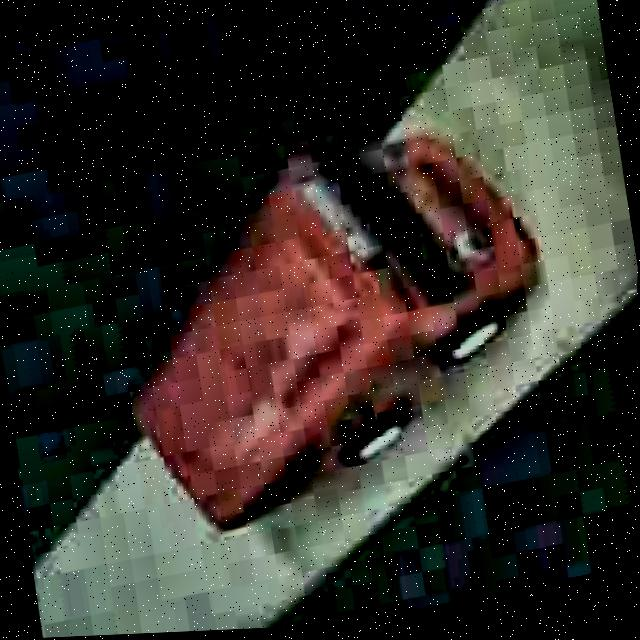bus: (95, 111, 576, 549)
